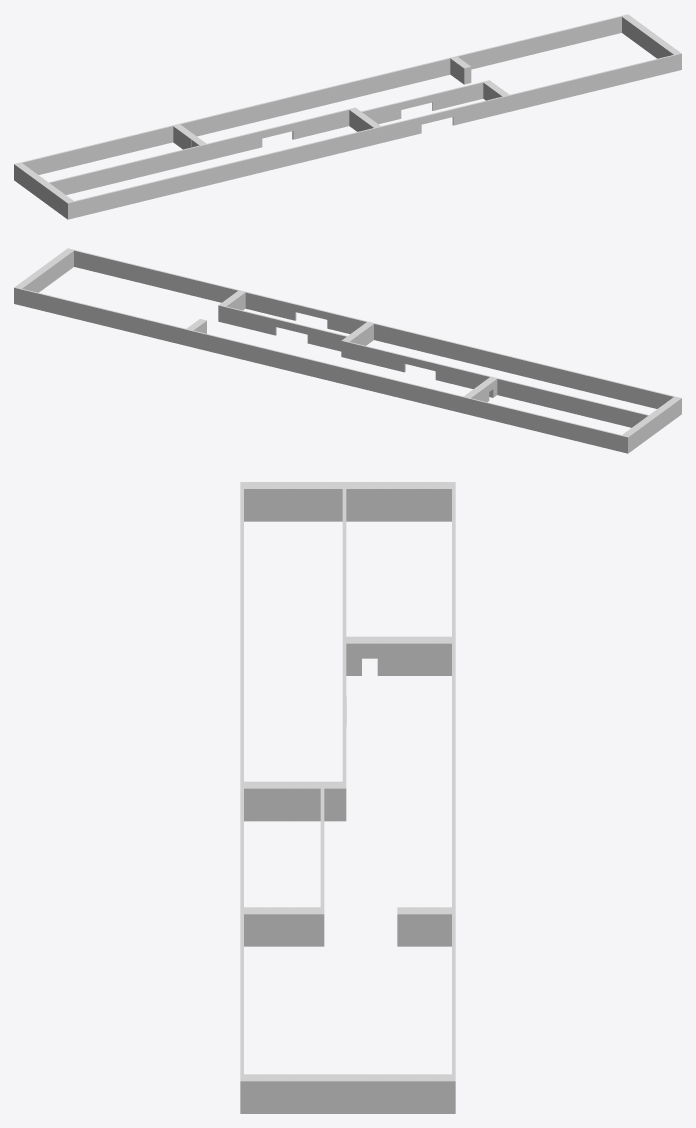
Rendered from GFwalls.obj.
3 views of the same model, one above another, from view 1: azimuth 30°, elevation 25°; view 2: azimuth 150°, elevation 25°; view 3: azimuth 270°, elevation 25° (orthographic). The views are drawn at different scales.
Parts seen in each view (by area): view 1: GFwalls; view 2: GFwalls; view 3: GFwalls.
Boxes of the visible parts, x1=… form: GFwalls: x1=14, y1=14, x2=681, y2=219; GFwalls: x1=14, y1=248, x2=681, y2=453; GFwalls: x1=240, y1=482, x2=455, y2=1113.
Size of the model in its own units: 86 by 2.17 by 13.08.
Materials: 1 (1 with a texture image).
